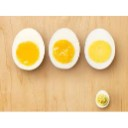begg: (12, 29, 45, 69), (85, 28, 115, 68), (50, 29, 79, 68)
